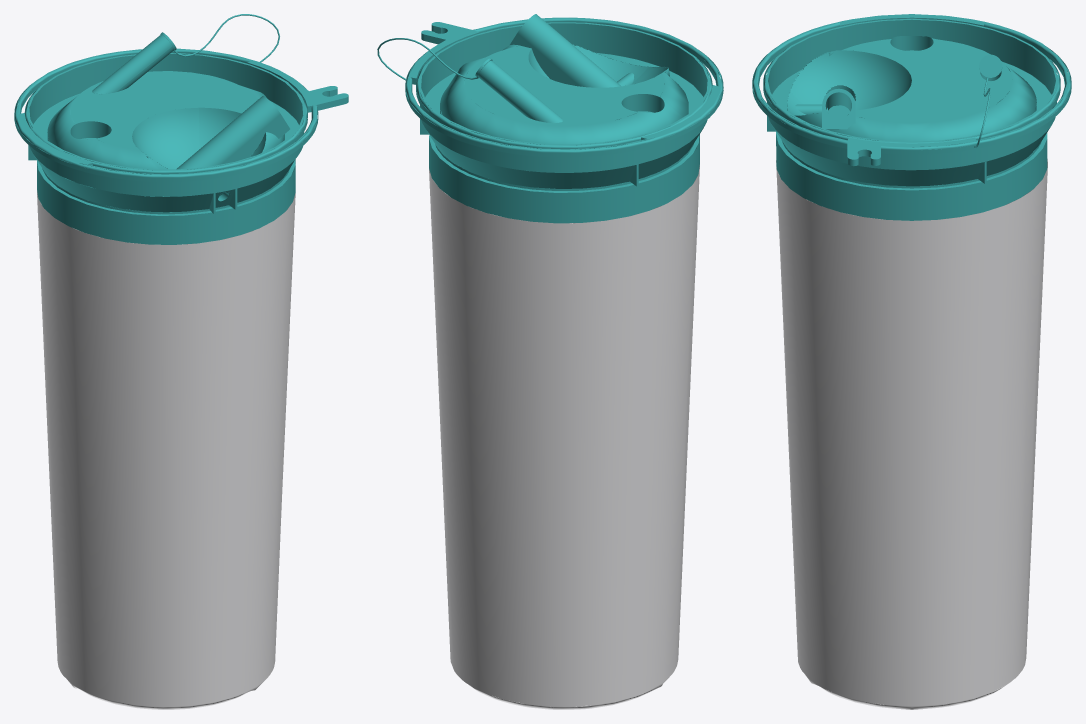
File: abadis-scrub-parts.glb
The picture shows the model from 3 angles, left to right: view 1: azimuth 30°, elevation 25°; view 2: azimuth 150°, elevation 25°; view 3: azimuth 270°, elevation 25°; orthographic projection. The views are drawn at different scales.
Parts seen in each view (by area): view 1: body, lid; view 2: body, lid; view 3: body, lid.
Part boxes in pixels (x1,y1,x2,y2): body: (37, 190, 295, 709); lid: (14, 14, 348, 244); body: (429, 165, 699, 709); lid: (377, 14, 723, 223); body: (776, 159, 1047, 709); lid: (752, 14, 1071, 220).
Size of the model in its own units: 0.1443 by 0.2887 by 0.133.
